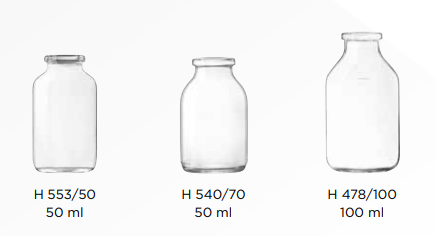glass_bottle: (323, 30, 404, 175), (27, 52, 100, 179), (178, 55, 250, 175)
